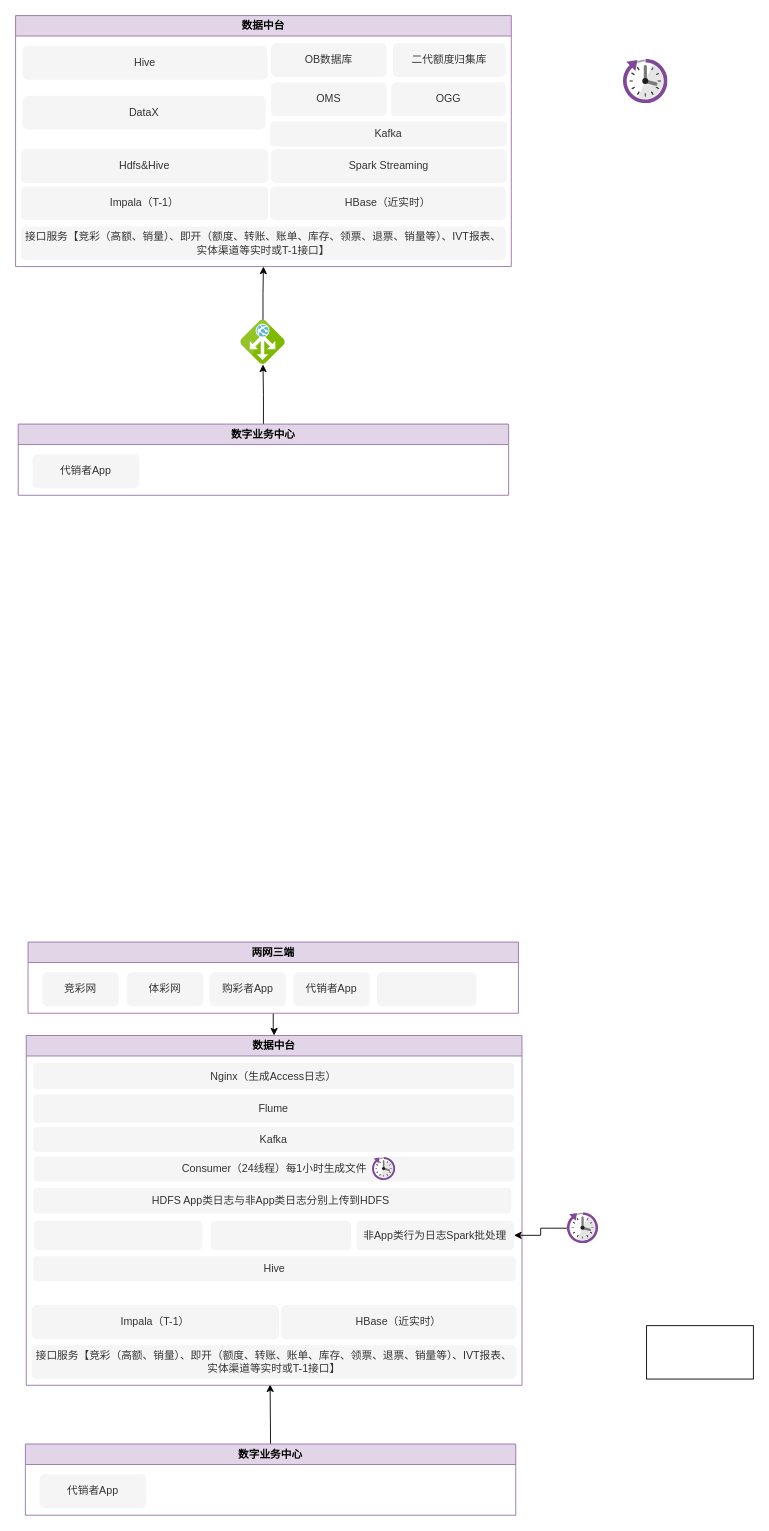
This 769x1531 diagram has some shape labels left out. The centre of each missing label's shape, as x and y in pixels:
App类行为日志Spark批处理: point (280, 1235)
Dolphinscheduler调度: point (582, 1227)
体彩微信小程序: point (426, 989)
其它特定事件(开奖等)Spark批处理: point (117, 1235)
开放平台: point (262, 342)
